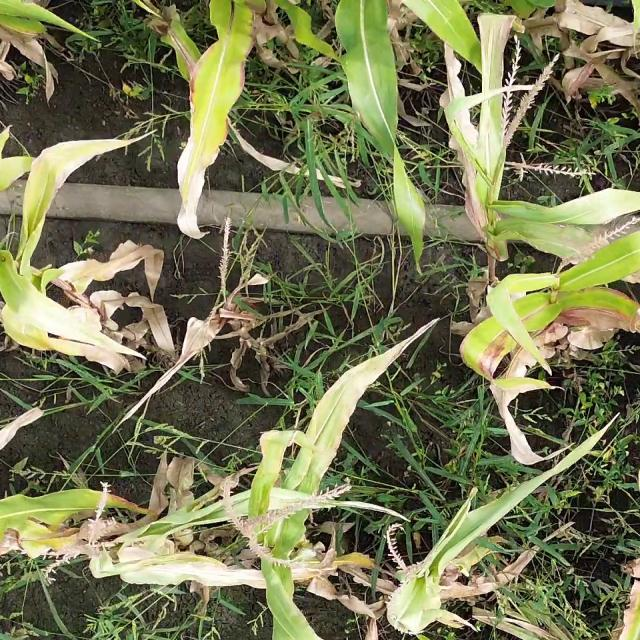northern-leaf-blight: (266, 319, 434, 506), (174, 30, 256, 247), (455, 294, 567, 392)
